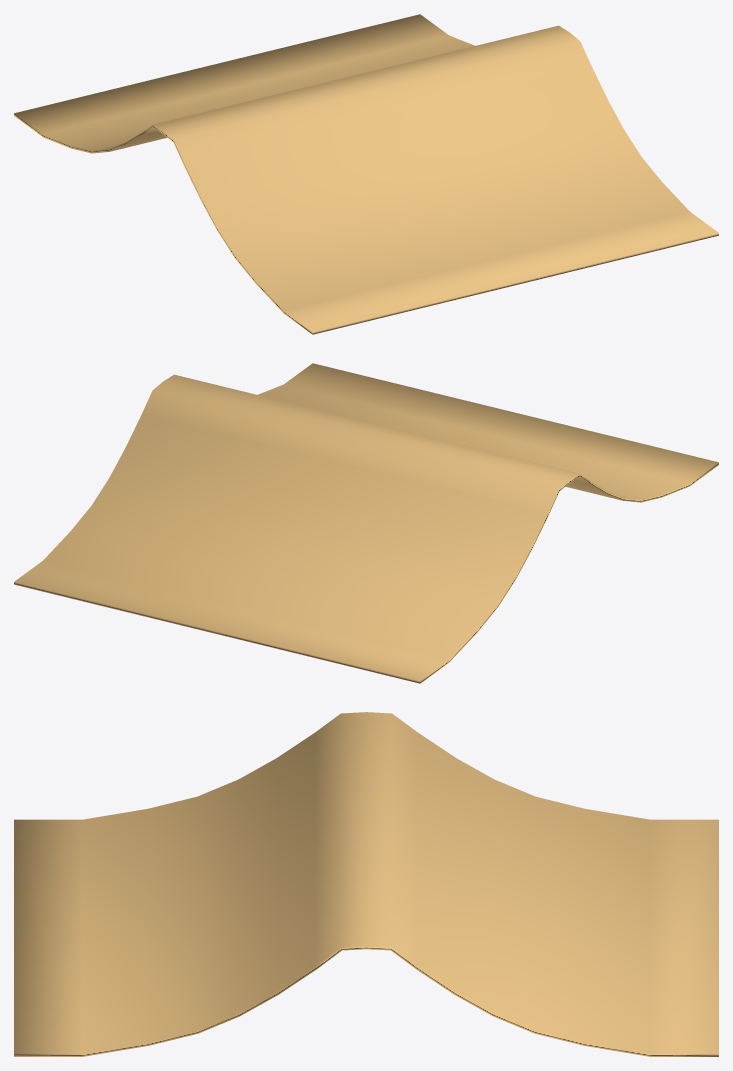
File: JustDough.fbx
3 views of the same model, one above another, from view 1: azimuth 30°, elevation 25°; view 2: azimuth 150°, elevation 25°; view 3: azimuth 270°, elevation 25° (orthographic). The views are drawn at different scales.
Visible parts, largest first — view 1: Dough; view 2: Dough; view 3: Dough.
Boxes of the visible parts, x1,y1,x2,y2 form: Dough: (14, 14, 718, 334); Dough: (14, 363, 718, 683); Dough: (14, 712, 718, 1056).
Size of the model in its own units: 2512 by 555 by 3199.
